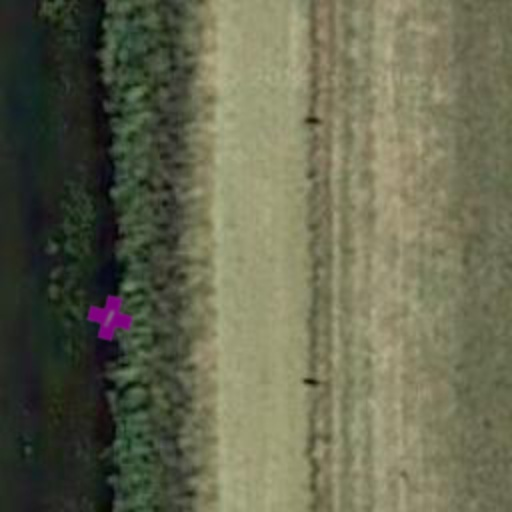cross: (82, 290, 138, 346)
